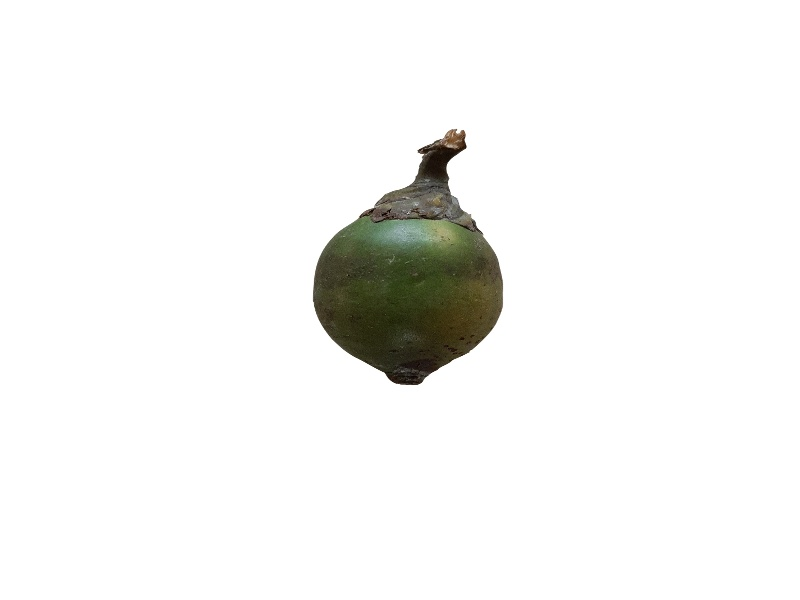arecanut: (302, 198, 519, 393)
